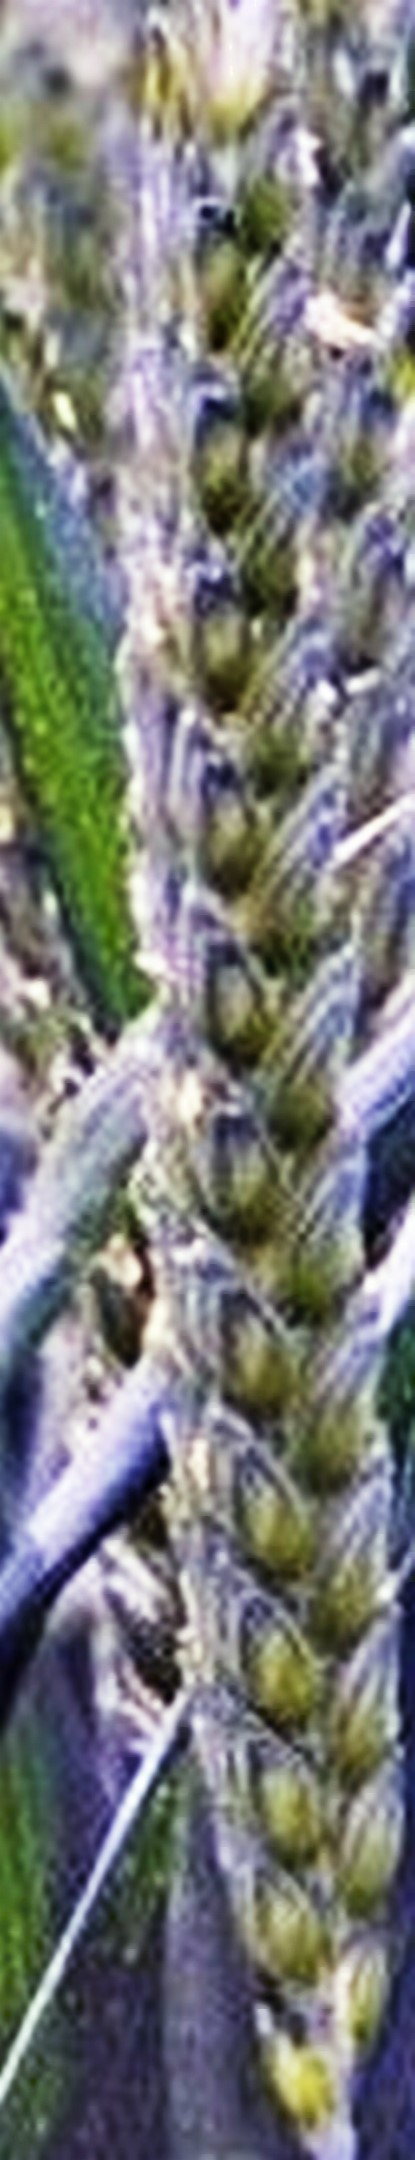Healthy Wheat: (113, 156, 415, 2033)
